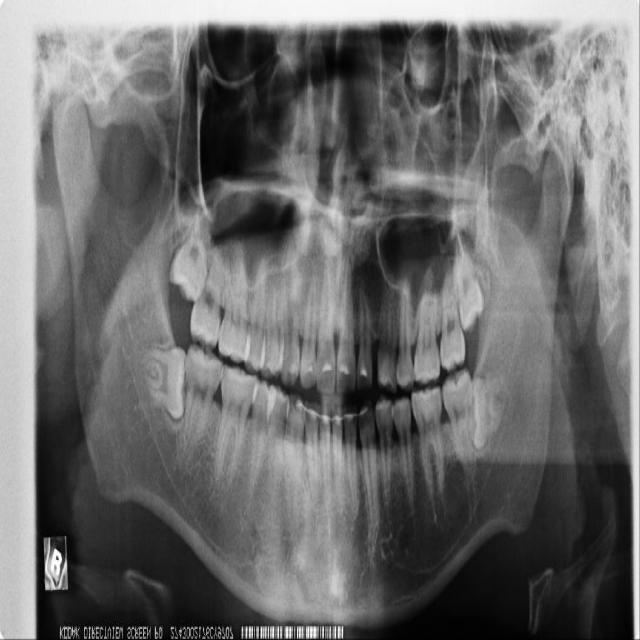3M ESPE Implant: (165, 214, 214, 302)
52: (186, 377, 191, 393)
73: (596, 580, 606, 589)
BioHorizons Implant: (440, 268, 465, 371)
BioLife Implant: (450, 233, 488, 333)
Biomet 3i Implant: (468, 375, 507, 450)
Blue Sky Bio Implant: (439, 367, 487, 482)
Caries: (189, 248, 225, 350)
Implant: (183, 343, 225, 453)
Keystone Dental Implant: (139, 346, 191, 421)
